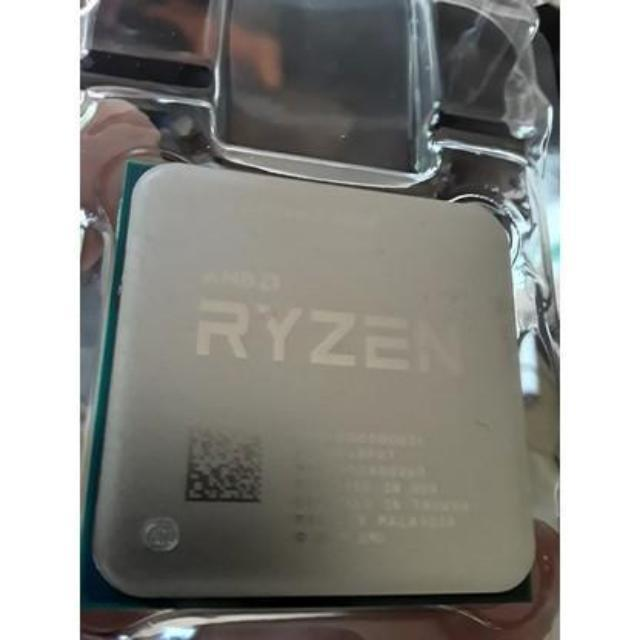CPU: (92, 155, 540, 603)
